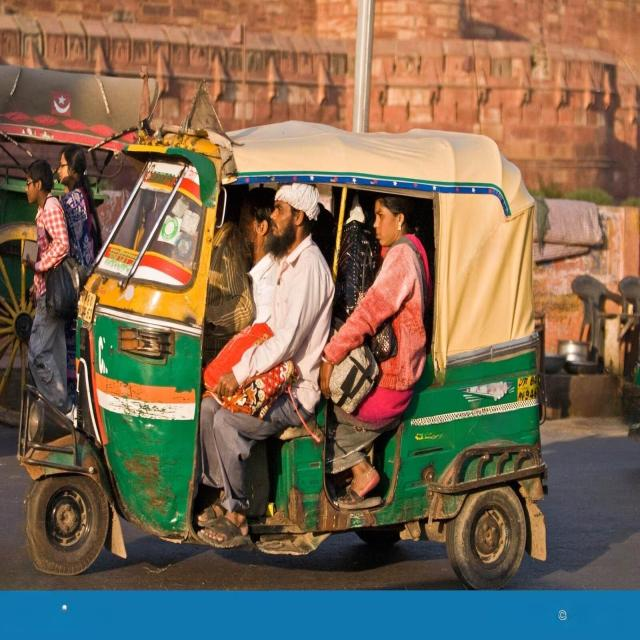autorickshaw: (19, 84, 546, 587)
